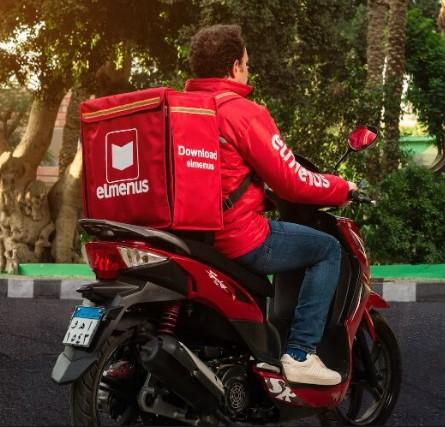License Plate: (63, 305, 104, 348)
